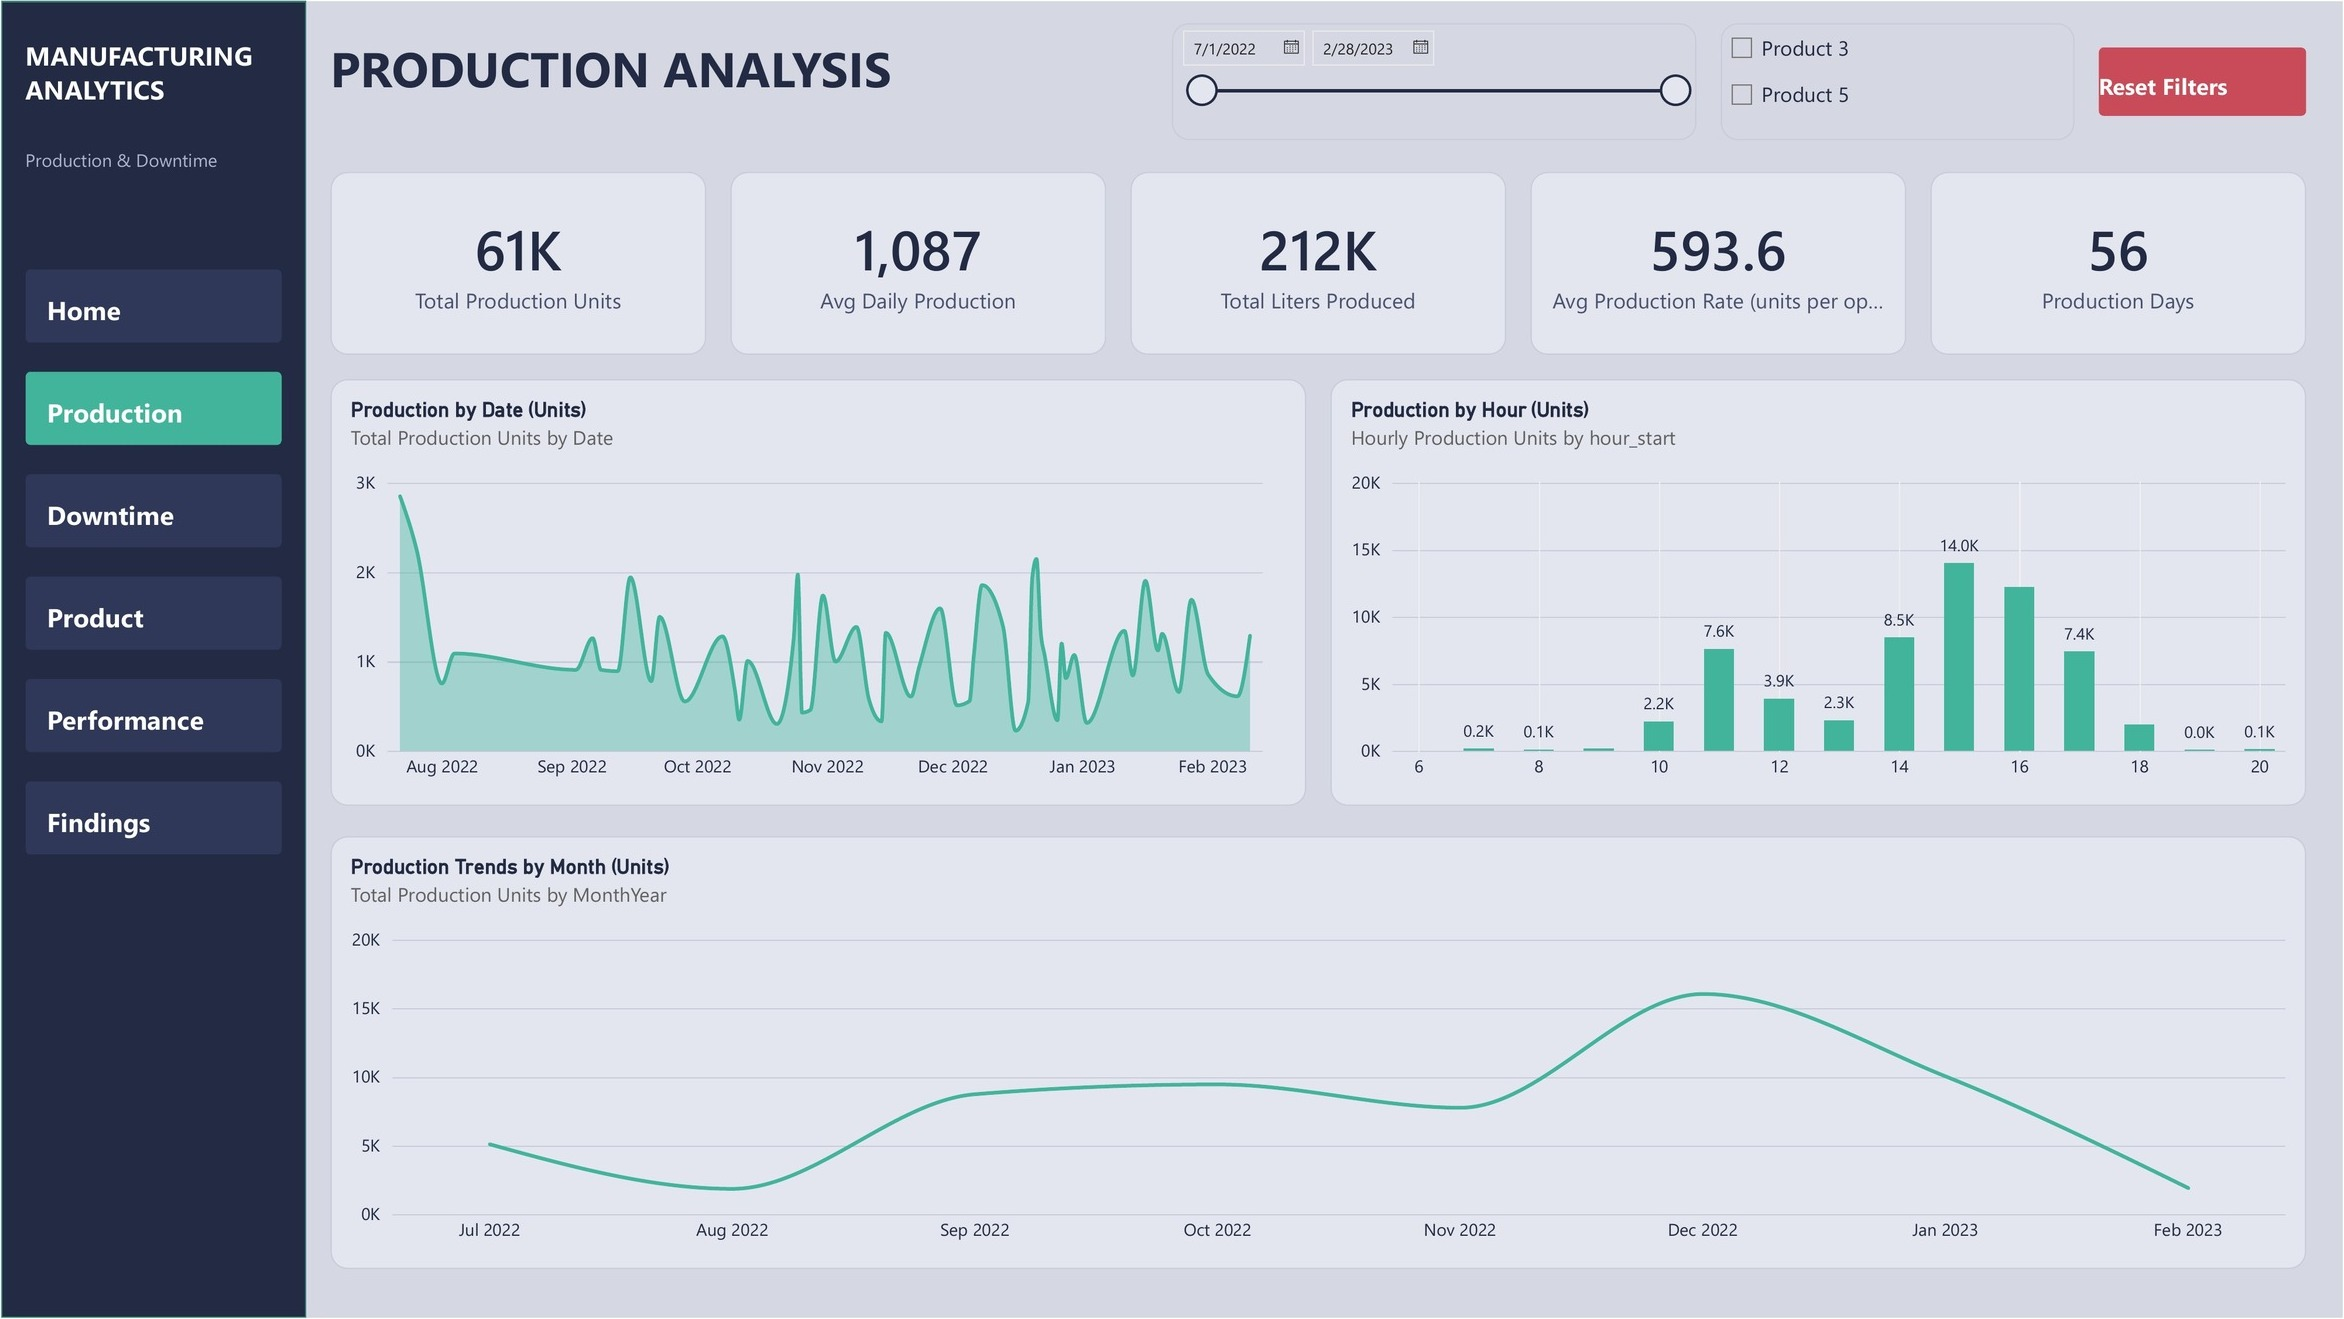

Layout of this report page (visuals, bound fields, positions):
{"tool":"powerbi","page":{"name":"Production Dashboard","canvas":[1920,1080],"ordinal":0},"visuals":[{"type":"shape","box":[0,0,250,1080],"z":0},{"type":"textbox","box":[20,30,215,90],"z":10},{"type":"textbox","box":[20,120,215,40],"z":20},{"type":"actionButton","box":[20,220,210,60],"z":30},{"type":"actionButton","box":[20,304,210,60],"z":40},{"type":"actionButton","box":[20,388,210,60],"z":50},{"type":"actionButton","box":[20,472,210,60],"z":60},{"type":"actionButton","box":[20,556,210,60],"z":70},{"type":"actionButton","box":[20,640,210,60],"z":80},{"type":"actionButton","box":[20,640,210,60],"z":140},{"type":"textbox","box":[20,220,210,60],"z":150},{"type":"textbox","box":[20,304,210,60],"z":160},{"type":"textbox","box":[20,388,210,60],"z":170},{"type":"textbox","box":[20,472,210,60],"z":180},{"type":"textbox","box":[20,556,210,60],"z":190},{"type":"textbox","box":[20,640,210,60],"z":200},{"type":"slicer","fields":{"Values":["Date.Date"]},"box":[960,18,430,96],"z":210},{"type":"slicer","fields":{"Values":["Product.Product"]},"box":[1410,18,290,96],"z":220},{"type":"actionButton","box":[1720,38,170,56],"z":230},{"type":"textbox","box":[1720,38,170,56],"z":240},{"type":"textbox","box":[270,28,680,80],"z":300},{"type":"card","fields":{"Values":["_Measures.Lowest Day Units"]},"box":[270,130,253.3,112],"z":700},{"type":"card","fields":{"Values":["_Measures.Days Under 500 Units"]},"box":[543.3,130,253.3,112],"z":710},{"type":"card","fields":{"Values":["_Measures.Long Stops (30+ min)"]},"box":[816.7,130,253.3,112],"z":720},{"type":"card","fields":{"Values":["_Measures.Long Stops Share of Downtime"]},"box":[1090,130,253.3,112],"z":730},{"type":"card","fields":{"Values":["_Measures.Product 3 Share of Units"]},"box":[1363.3,130,253.3,112],"z":740},{"type":"card","fields":{"Values":["_Measures.Efficiency Gap 3 L vs 5 L (pts)"]},"box":[1636.7,130,253.3,112],"z":750},{"type":"clusteredColumnChart","title":"Lowest-Output Days (Units)","fields":{"Category":["Date.Date"],"Y":["_Measures.Bottom 5 Days Units"]},"box":[270,258,800,240],"z":760},{"type":"clusteredColumnChart","title":"Downtime Percentage by Hour of Day","fields":{"Category":["hourly_operation_breakdown.hour_start"],"Y":["_Measures.Downtime Percentage"]},"box":[270,508,800,250],"z":770},{"type":"clusteredColumnChart","title":"Operating Efficiency by Product","fields":{"Category":["Product.Product"],"Y":["_Measures.Product Efficiency"]},"box":[270,768,800,266],"z":780},{"type":"shape","box":[1090,258,800,186],"z":790},{"type":"textbox","box":[1100,264,780,174],"z":800},{"type":"shape","box":[1090,452,800,186],"z":810},{"type":"textbox","box":[1100,458,780,174],"z":820},{"type":"shape","box":[1090,646,800,186],"z":830},{"type":"textbox","box":[1100,652,780,174],"z":840},{"type":"shape","box":[1090,840,800,186],"z":850},{"type":"textbox","box":[1100,846,780,174],"z":860}]}

Visuals, with their boxes in screenshot pixels (x1, y1, x2, y2), scaled from the page's 1920x1080 canvas onto the 2344x1319 screenshot:
shape: locate(0, 0, 305, 1318)
textbox: locate(24, 37, 287, 147)
textbox: locate(24, 147, 287, 195)
actionButton: locate(24, 269, 281, 342)
actionButton: locate(24, 371, 281, 445)
actionButton: locate(24, 474, 281, 547)
actionButton: locate(24, 576, 281, 650)
actionButton: locate(24, 679, 281, 752)
actionButton: locate(24, 782, 281, 855)
actionButton: locate(24, 782, 281, 855)
textbox: locate(24, 269, 281, 342)
textbox: locate(24, 371, 281, 445)
textbox: locate(24, 474, 281, 547)
textbox: locate(24, 576, 281, 650)
textbox: locate(24, 679, 281, 752)
textbox: locate(24, 782, 281, 855)
slicer - Date.Date: locate(1172, 22, 1697, 139)
slicer - Product.Product: locate(1721, 22, 2075, 139)
actionButton: locate(2100, 46, 2307, 115)
textbox: locate(2100, 46, 2307, 115)
textbox: locate(330, 34, 1160, 132)
card - _Measures.Lowest Day Units: locate(330, 159, 639, 296)
card - _Measures.Days Under 500 Units: locate(663, 159, 973, 296)
card - _Measures.Long Stops (30+ min): locate(997, 159, 1306, 296)
card - _Measures.Long Stops Share of Downtime: locate(1331, 159, 1640, 296)
card - _Measures.Product 3 Share of Units: locate(1664, 159, 1974, 296)
card - _Measures.Efficiency Gap 3 L vs 5 L (pts): locate(1998, 159, 2307, 296)
"Lowest-Output Days (Units)" clusteredColumnChart: locate(330, 315, 1306, 608)
"Downtime Percentage by Hour of Day" clusteredColumnChart: locate(330, 620, 1306, 926)
"Operating Efficiency by Product" clusteredColumnChart: locate(330, 938, 1306, 1263)
shape: locate(1331, 315, 2307, 542)
textbox: locate(1343, 322, 2295, 535)
shape: locate(1331, 552, 2307, 779)
textbox: locate(1343, 559, 2295, 772)
shape: locate(1331, 789, 2307, 1016)
textbox: locate(1343, 796, 2295, 1009)
shape: locate(1331, 1026, 2307, 1253)
textbox: locate(1343, 1033, 2295, 1246)
